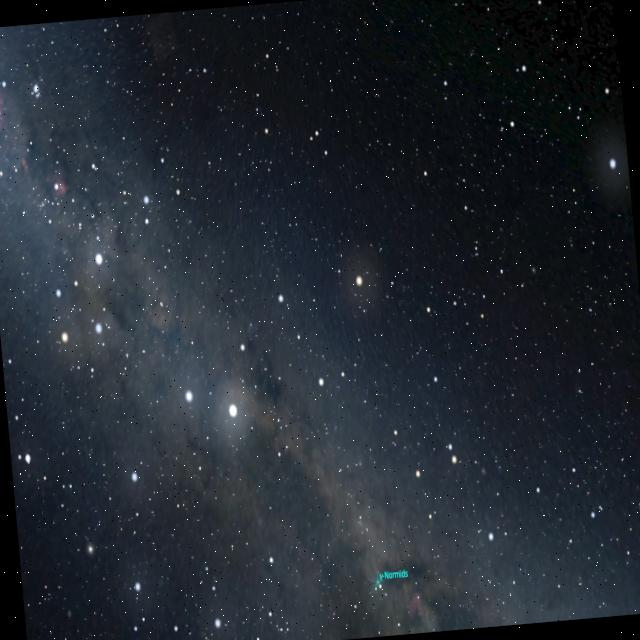Triangulum Australe: (272, 270, 378, 402)
